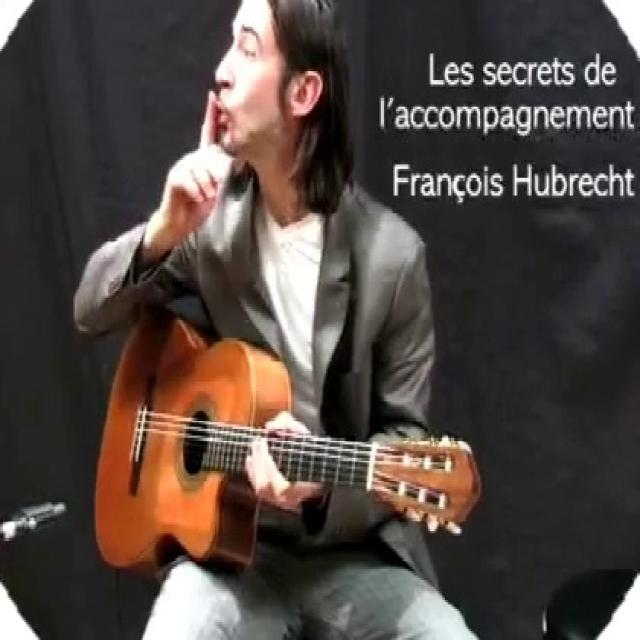Guitar: (82, 276, 489, 587)
